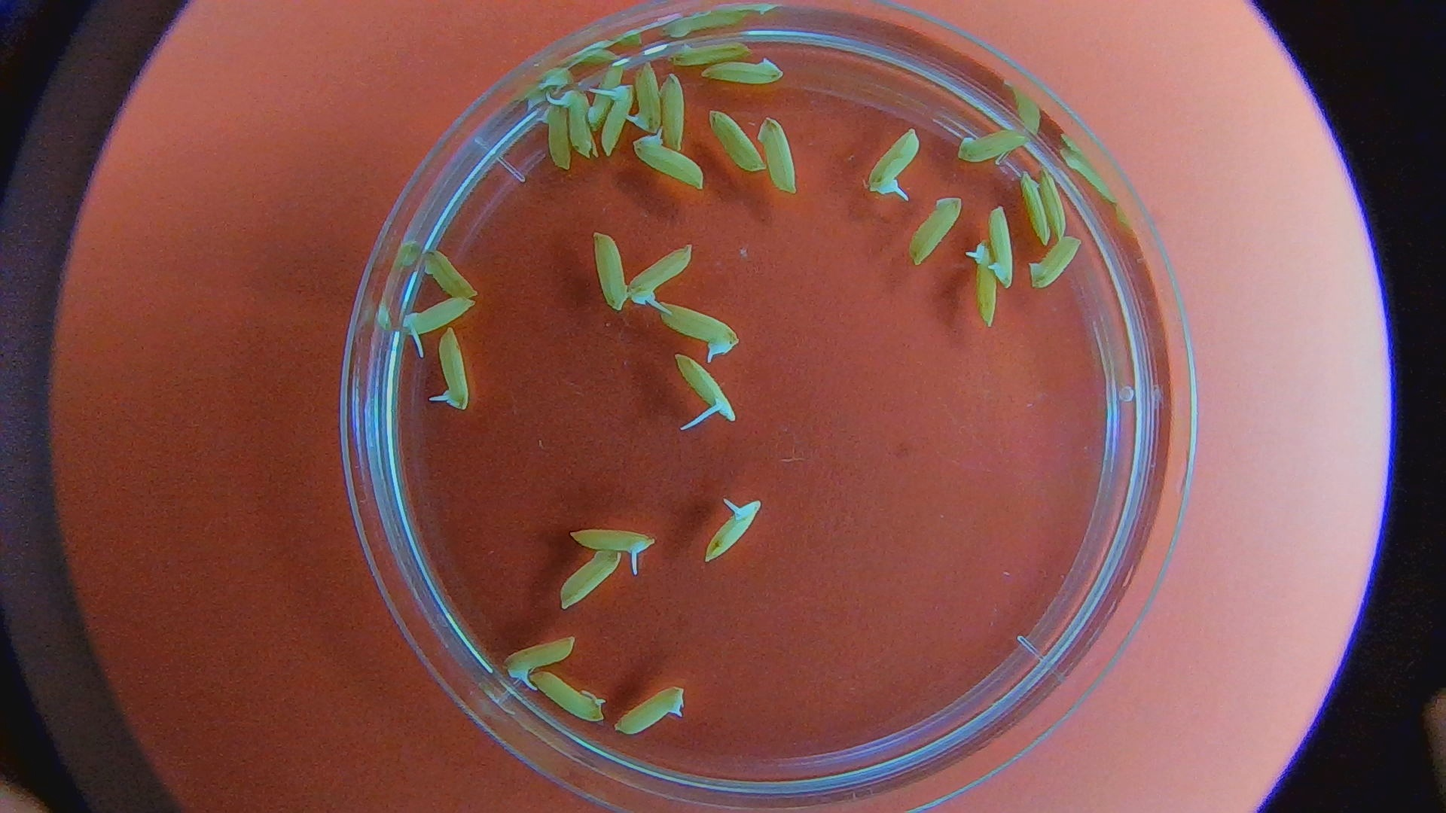no: (523, 667, 607, 724), (558, 546, 624, 614), (614, 680, 686, 738), (633, 132, 704, 190), (706, 105, 761, 174), (911, 192, 959, 267), (589, 230, 631, 312), (756, 117, 801, 193), (1027, 235, 1084, 291), (984, 202, 1020, 290), (657, 67, 691, 154), (699, 55, 787, 88), (419, 250, 478, 299), (1038, 164, 1073, 246), (1017, 168, 1052, 248), (958, 126, 1031, 164), (670, 37, 755, 69), (590, 62, 623, 129), (542, 105, 573, 172)
yes: (627, 241, 697, 309), (657, 300, 736, 353), (865, 126, 919, 202), (674, 355, 735, 422), (702, 498, 761, 565), (504, 635, 581, 677), (436, 327, 475, 408), (399, 296, 476, 337), (965, 239, 999, 327), (625, 59, 664, 135), (570, 527, 654, 558), (599, 85, 633, 158), (563, 90, 596, 158)
